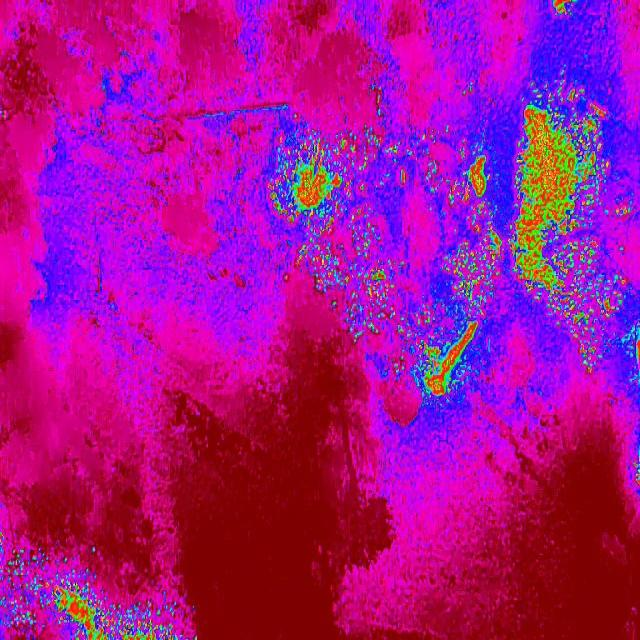fire: (268, 90, 640, 342), (0, 540, 96, 640), (374, 342, 502, 402), (96, 587, 202, 640), (573, 342, 640, 386), (546, 0, 582, 25)
